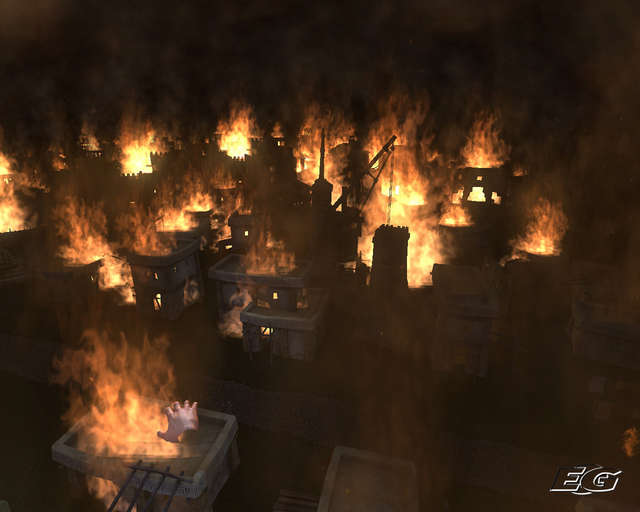fire: (1, 106, 574, 268), (68, 376, 177, 479)
